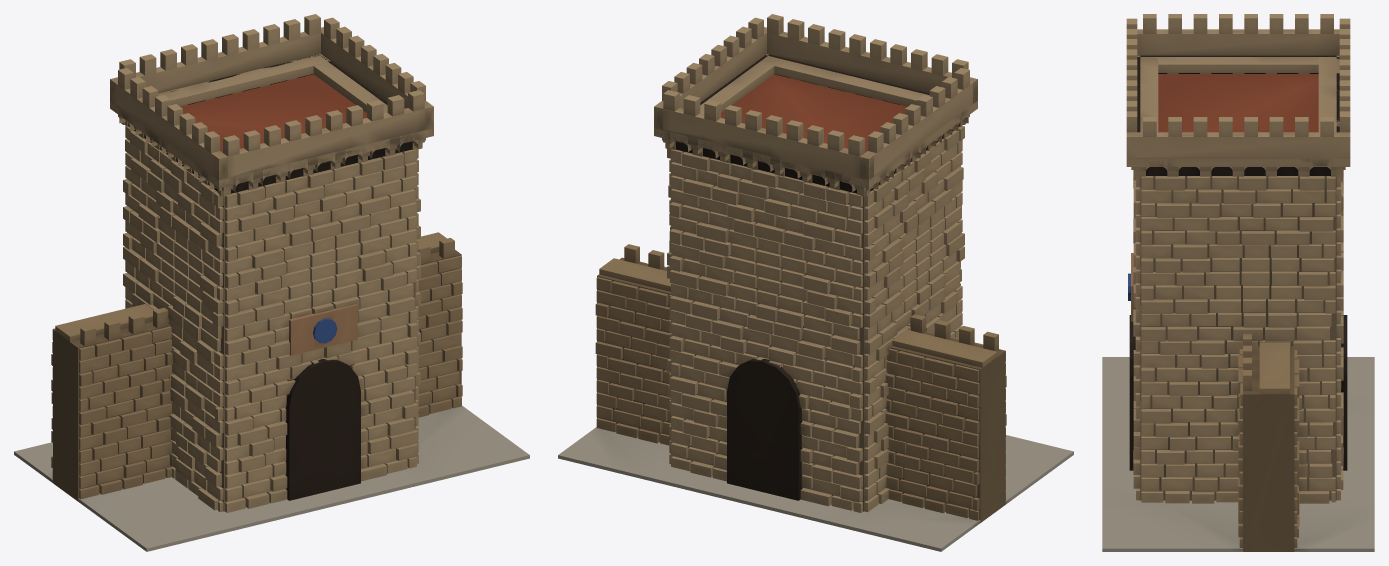
File: porta-romana.glb
3 views of the same model, side by side, from view 1: azimuth 30°, elevation 25°; view 2: azimuth 150°, elevation 25°; view 3: azimuth 270°, elevation 25° (orthographic). The views are drawn at different scales.
Parts seen in each view (by area): view 1: p1_gate tower, p0_walls; view 2: p1_gate tower, p0_walls; view 3: p1_gate tower, p0_walls.
Part boxes in pixels (x1=…): p1_gate tower: x1=110, y1=14, x2=433, y2=512; p0_walls: x1=14, y1=232, x2=529, y2=551; p1_gate tower: x1=654, y1=14, x2=977, y2=512; p0_walls: x1=558, y1=244, x2=1073, y2=551; p1_gate tower: x1=1126, y1=14, x2=1350, y2=503; p0_walls: x1=1102, y1=333, x2=1374, y2=551.
Size of the model in its own units: 30.02 by 28.34 by 18.
